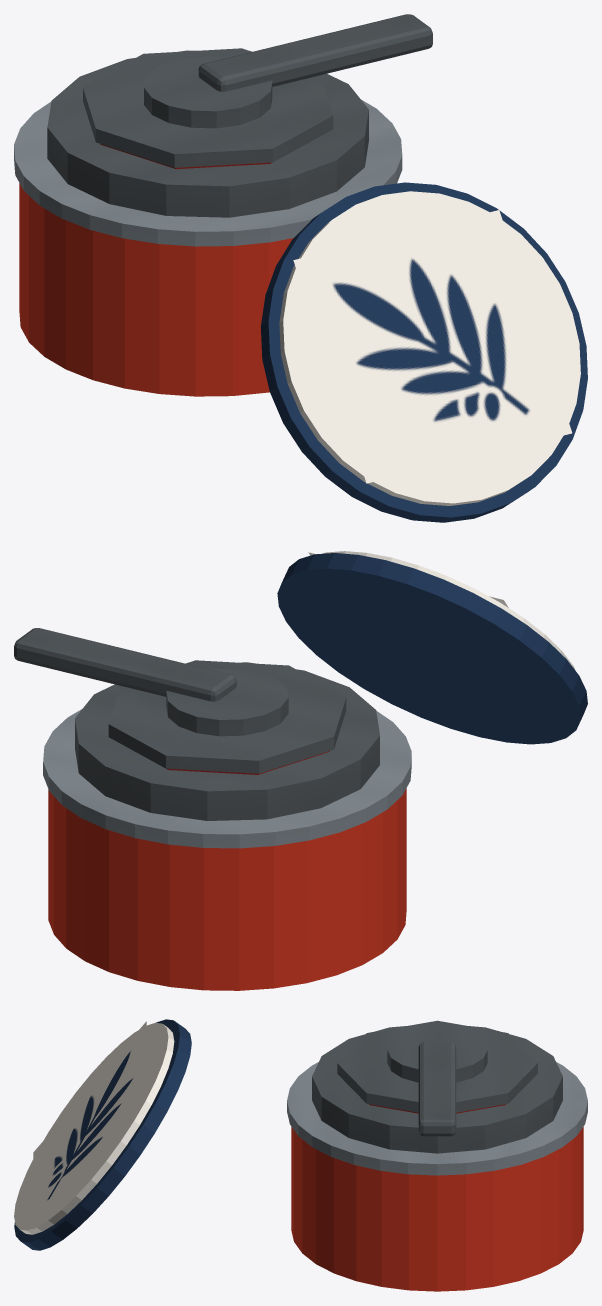
Rendered from seasoning_dispenser.glb.
3 renders of one model, top to bottom at view 1: azimuth 30°, elevation 25°; view 2: azimuth 150°, elevation 25°; view 3: azimuth 270°, elevation 25°, orthographic. The views are drawn at different scales.
Visible parts, largest first — view 1: oil, paprika_sweet, salt, paprika_hot; view 2: paprika_sweet, oil, salt, paprika_hot; view 3: paprika_sweet, oil, salt, paprika_hot.
Part boxes in pixels (x1,y1,x2,y2): oil: [144, 14, 587, 522]; paprika_sweet: [14, 99, 402, 396]; salt: [47, 50, 368, 217]; paprika_hot: [83, 48, 333, 168]; paprika_sweet: [43, 709, 411, 990]; oil: [14, 551, 587, 744]; salt: [75, 662, 379, 820]; paprika_hot: [108, 660, 346, 774]; paprika_sweet: [287, 1062, 587, 1291]; oil: [14, 1019, 487, 1250]; salt: [312, 1026, 562, 1153]; paprika_hot: [337, 1020, 537, 1113].
Size of the model in its own units: 0.41 by 0.2648 by 0.6865.
Materials: 3 (3 with a texture image).
